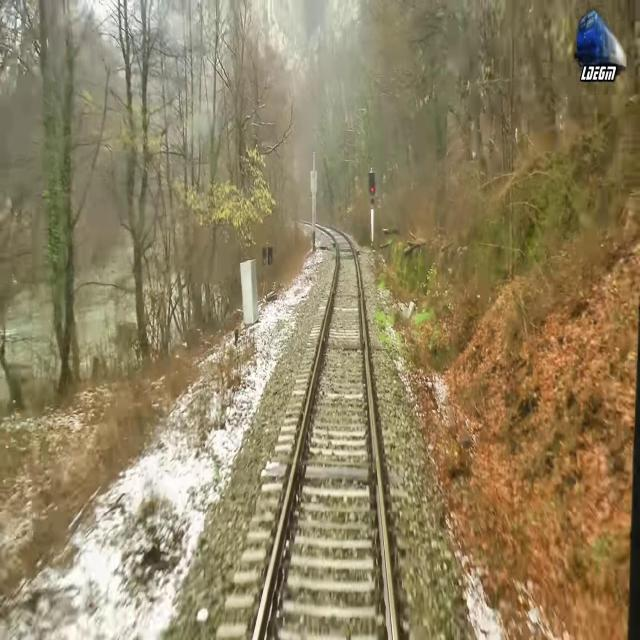rail-track: (257, 223, 392, 639)
